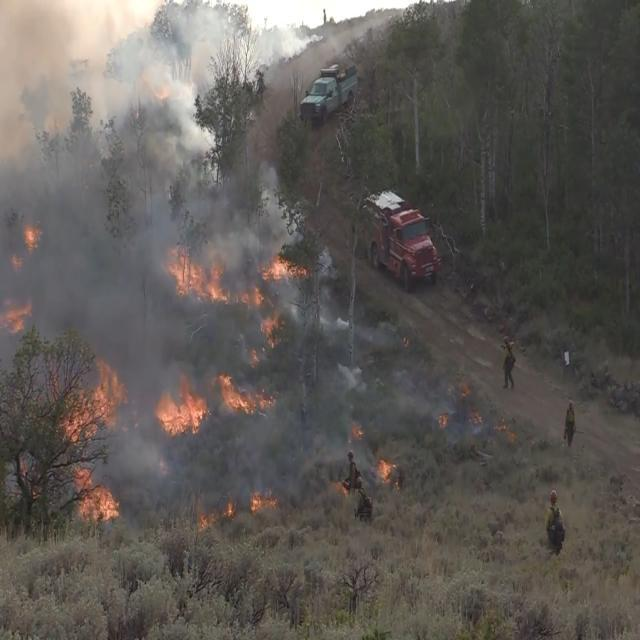Fire: (8, 210, 390, 527)
